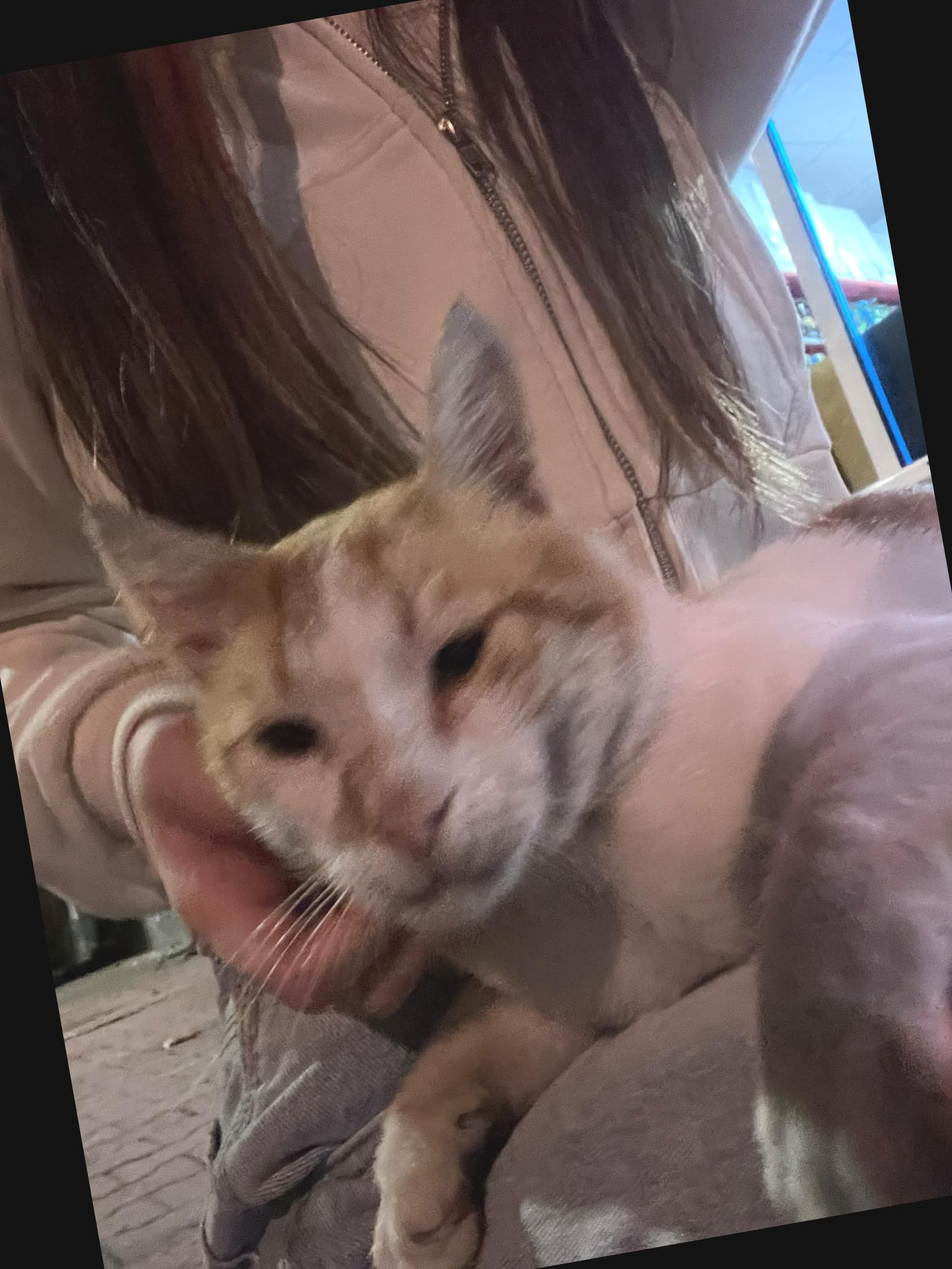macka: (53, 219, 952, 1269)
